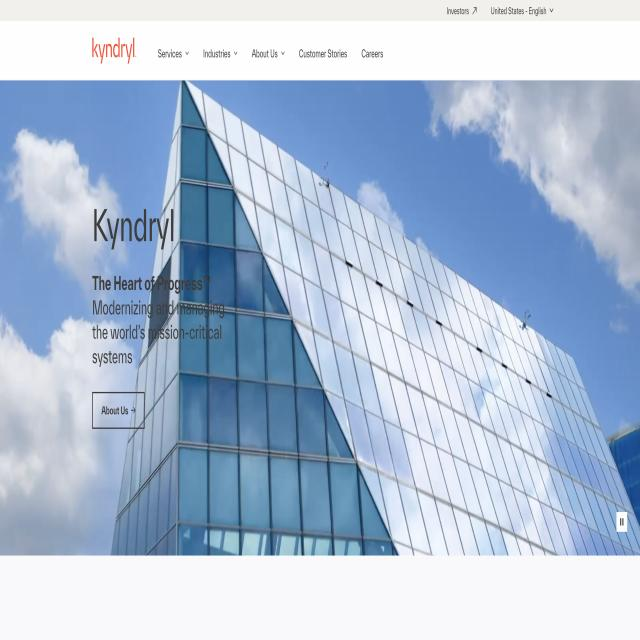Logo: (88, 26, 148, 72)
Navigation: (152, 28, 403, 66)
